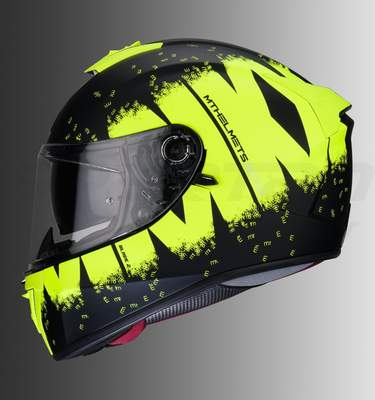with_helmet: (17, 33, 363, 366)
